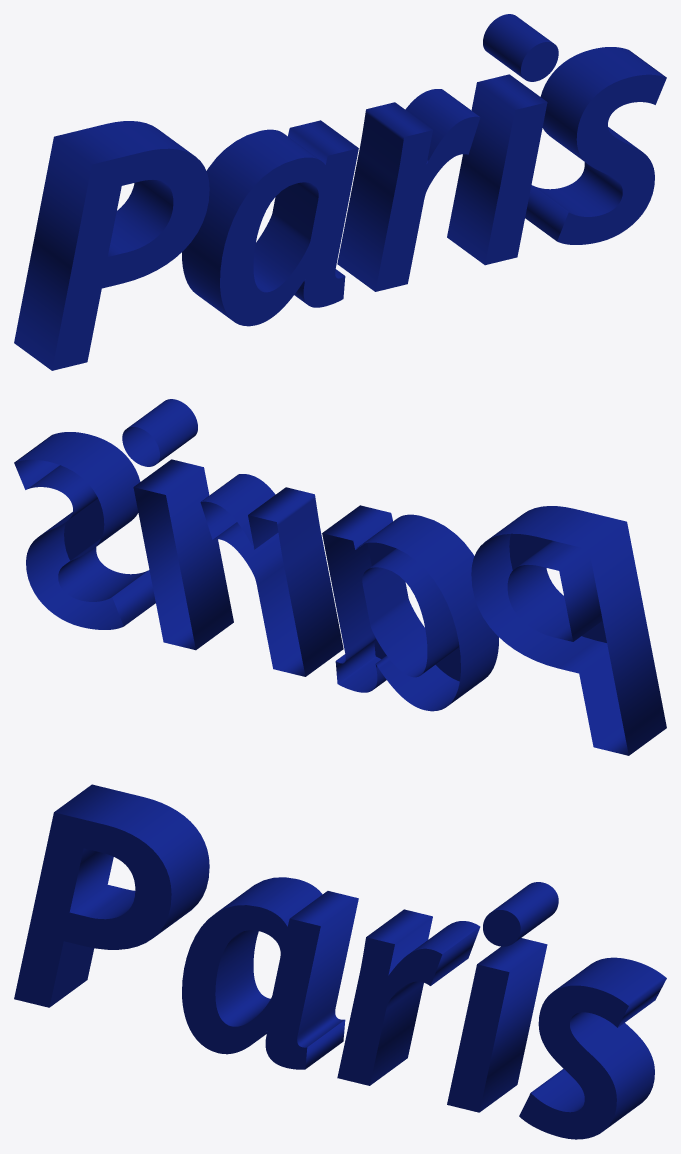
The model's file is Paris.glb.
3 renders of one model, top to bottom at view 1: azimuth 30°, elevation 25°; view 2: azimuth 150°, elevation 25°; view 3: azimuth 330°, elevation 25°, orthographic.
Visible parts, largest first — view 1: Paris; view 2: Paris; view 3: Paris.
Part boxes in pixels (left/top/right/bottom): Paris: left=14, top=14, right=666, bottom=370; Paris: left=14, top=399, right=666, bottom=755; Paris: left=14, top=784, right=666, bottom=1139.
Bounding box in the file's own units: 0.2798 × 0.0928 × 0.03.
